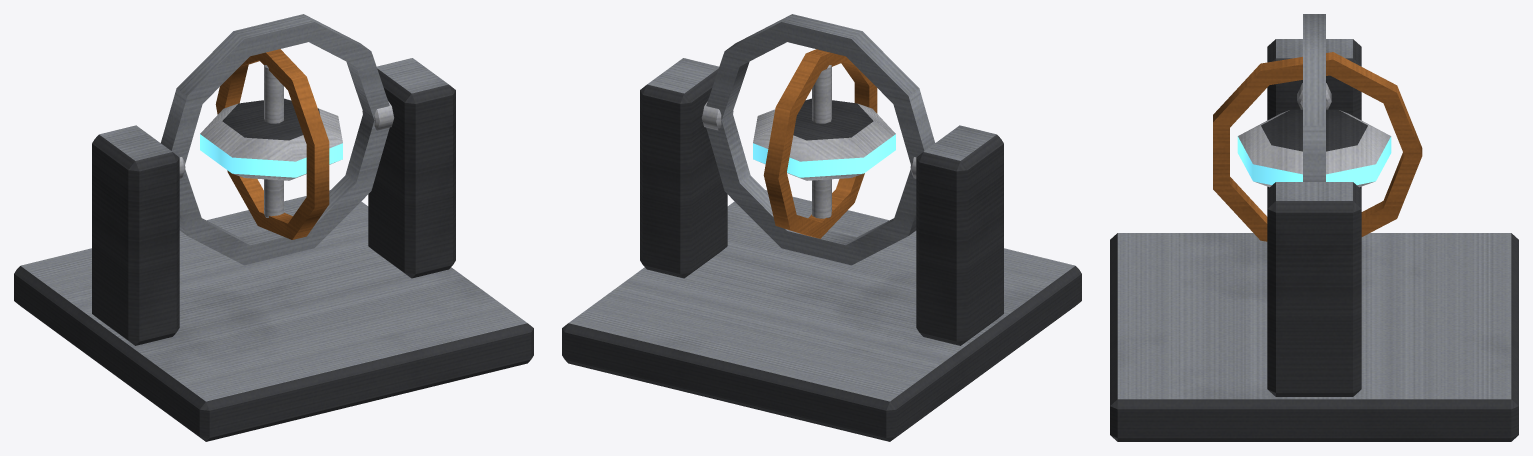
Rendered from R4X_Gyroscope_LOD1.glb.
The picture shows the model from 3 angles, left to right: view 1: azimuth 30°, elevation 25°; view 2: azimuth 150°, elevation 25°; view 3: azimuth 270°, elevation 25°; orthographic projection. The views are drawn at different scales.
Parts seen in each view (by area): view 1: R4X_Gyroscope_LOD1; view 2: R4X_Gyroscope_LOD1; view 3: R4X_Gyroscope_LOD1.
Part boxes in pixels (x1,y1,x2,y2): R4X_Gyroscope_LOD1: (14, 14, 533, 441); R4X_Gyroscope_LOD1: (562, 14, 1081, 441); R4X_Gyroscope_LOD1: (1110, 14, 1518, 441).
Bounding box in the file's own units: 0.52 × 0.4583 × 0.52.
Materials: 5 (4 with a texture image).
